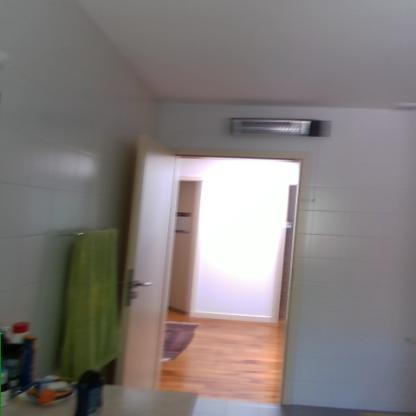open: (110, 132, 308, 413)
